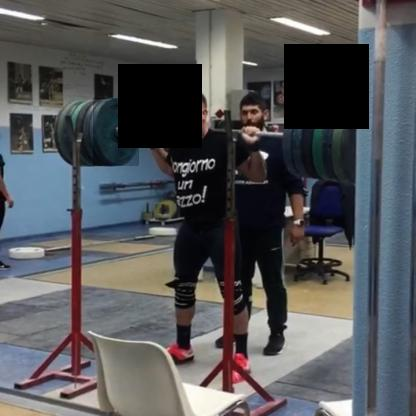barbell: (94, 99, 140, 167)
